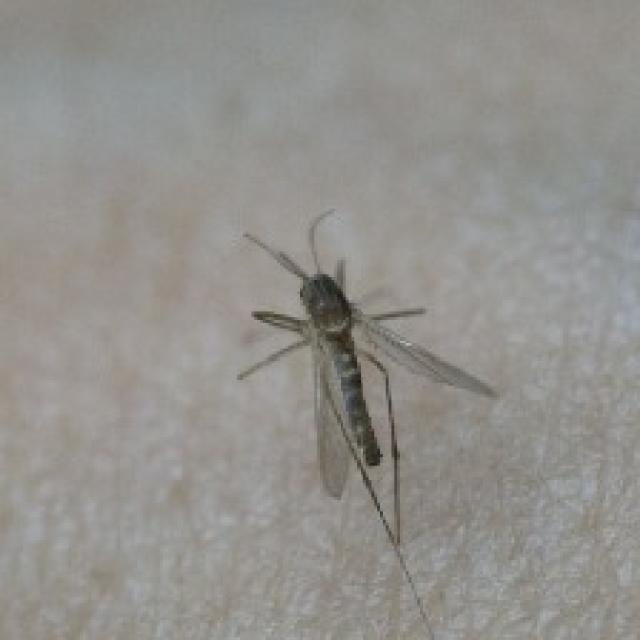culex: (234, 206, 497, 637)
